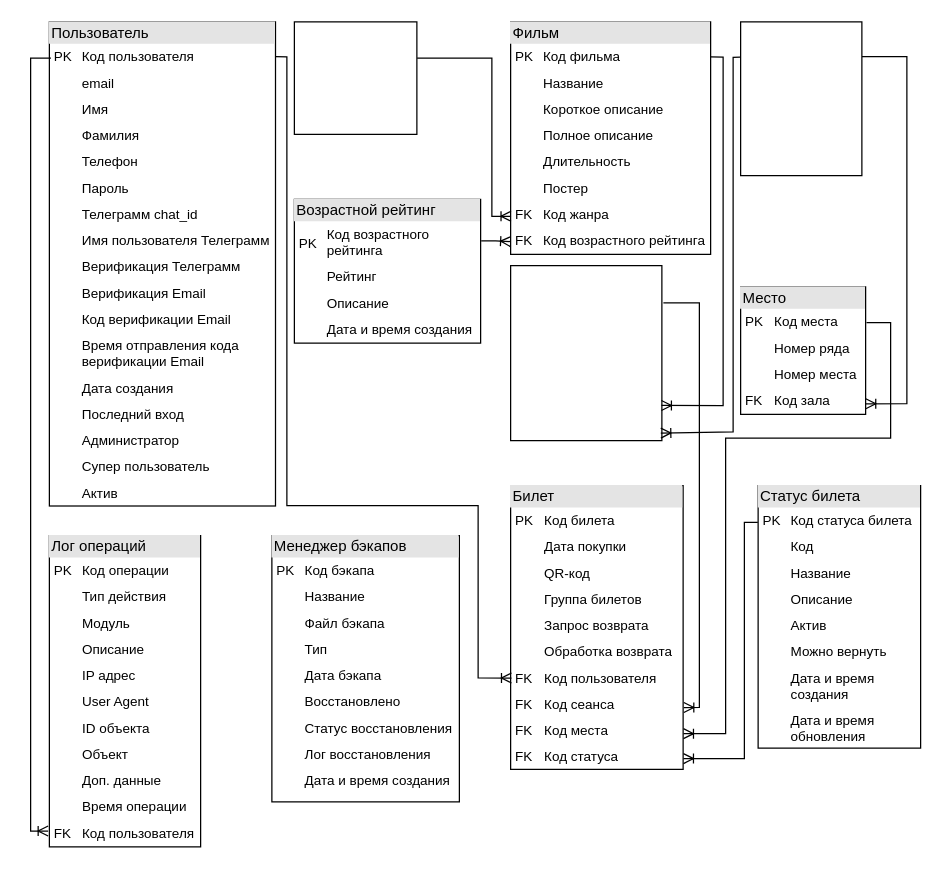
Image size: 943x869. Some labels were removed from this diagram. The centre of each missing label's shape, as x and y in pixels:
Жанр PK Код жанра Название Дата и время создания: (355,77)
Зал PK Код зала Название Кол-во рядов Мест в ряду Описание: (800,98)
Сеанс PK Код сеанса Время начала Время окончания Цена FK Код фильма FK Код зала: (585,352)
